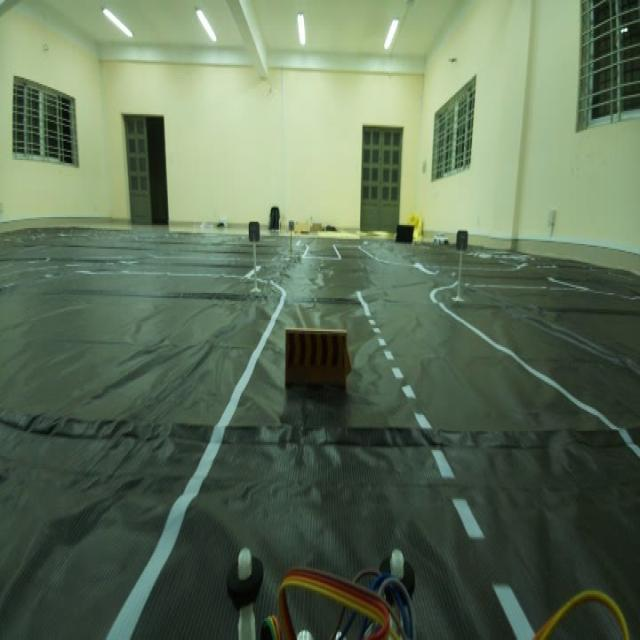roadblock: (276, 316, 358, 411)
